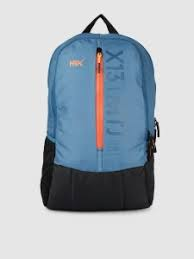backpack: (39, 13, 160, 211)
